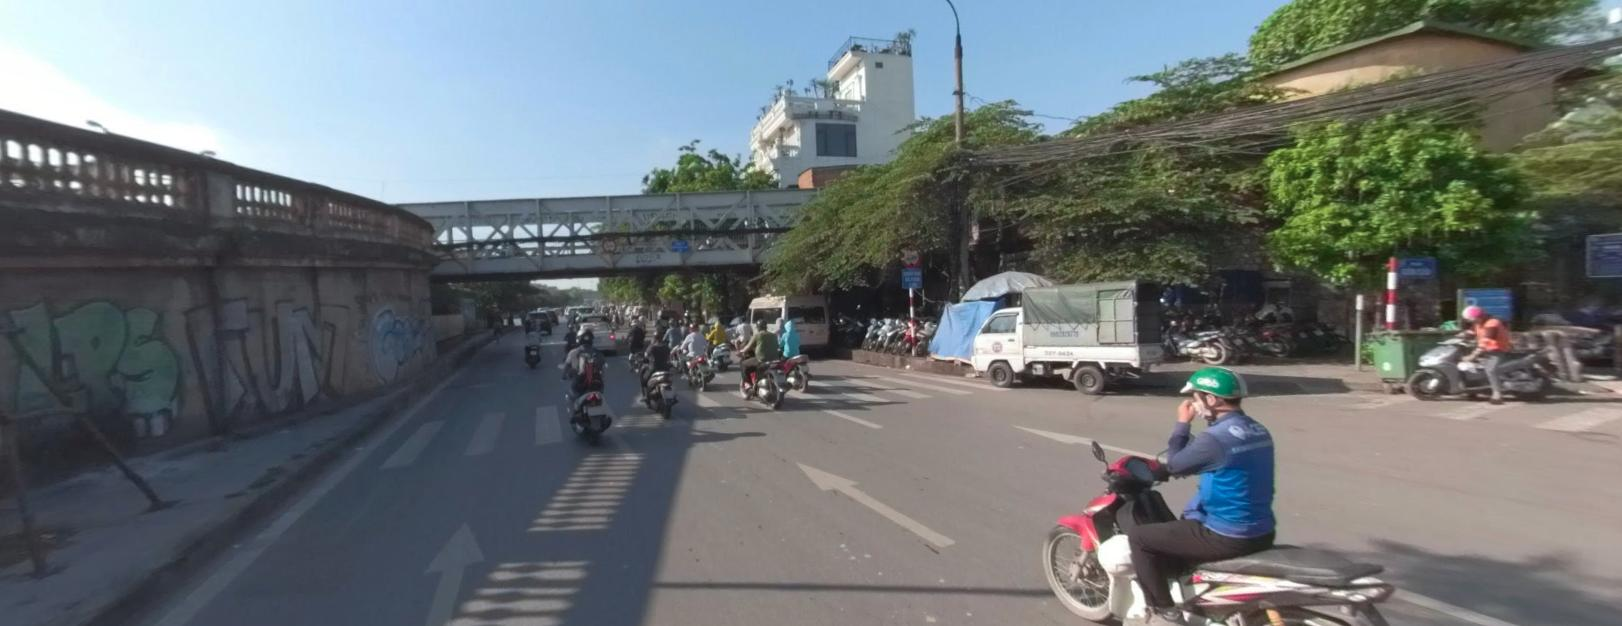Cam con lai: (898, 243, 921, 266), (602, 237, 615, 250)
